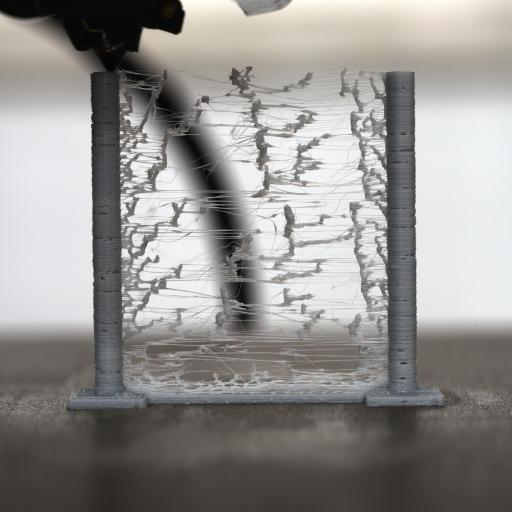stringing: (119, 68, 387, 386)
